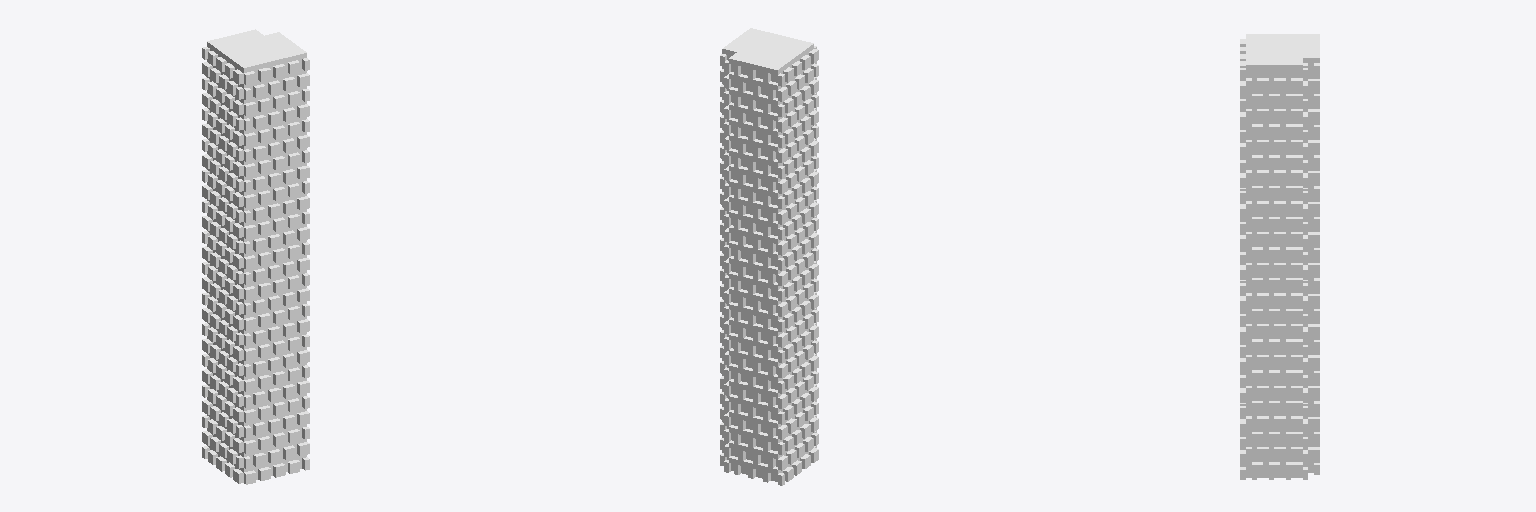
File: connect_wall_h81_sq_1.0.obj
The picture shows the model from 3 angles: view 1: azimuth 30°, elevation 25°; view 2: azimuth 150°, elevation 25°; view 3: azimuth 270°, elevation 25°; orthographic projection.
Visible parts, largest first — view 1: object 1; view 2: object 1; view 3: object 1.
Boxes of the visible parts, x1,y1,x2,y2 form: object 1: [202, 29, 309, 484]; object 1: [720, 28, 818, 485]; object 1: [1240, 34, 1319, 479].
Size of the model in its own units: 1.4 by 8.1 by 1.4.